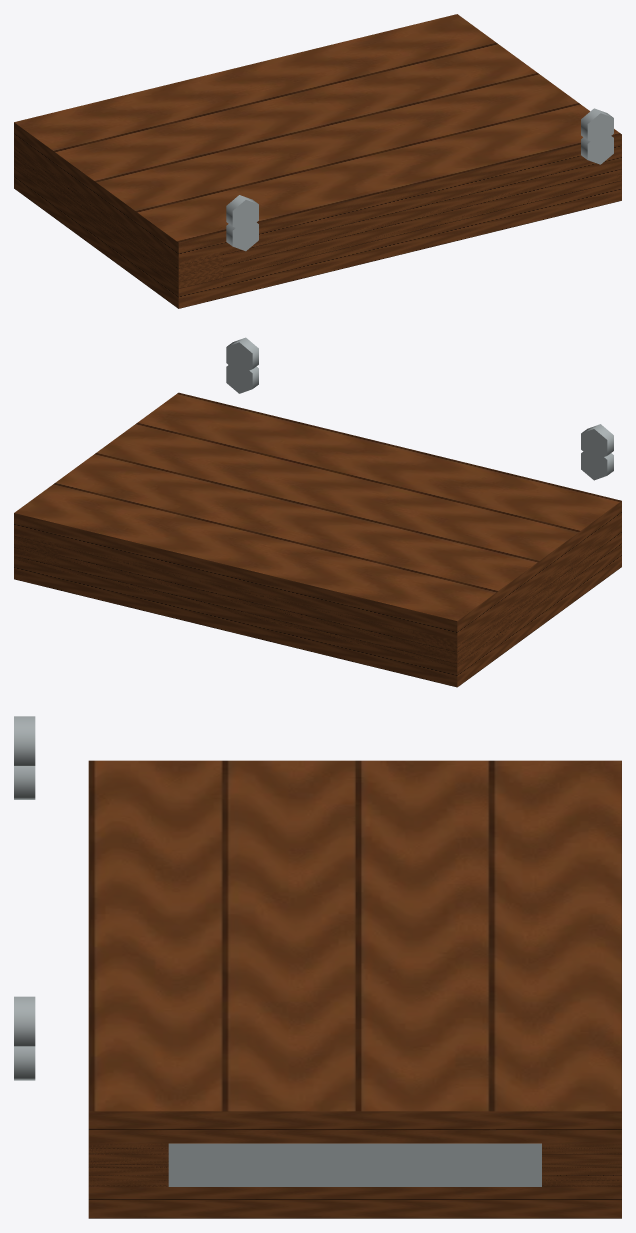
Rendered from suburban-outbreak-interiors-loose-cupboard-shelf-af0fb7c7__20011.glb.
3 renders of one model, top to bottom at view 1: azimuth 30°, elevation 25°; view 2: azimuth 150°, elevation 25°; view 3: azimuth 270°, elevation 25°, orthographic. The views are drawn at different scales.
Visible parts, largest first — view 1: loose-cupboard-shelf; view 2: loose-cupboard-shelf; view 3: loose-cupboard-shelf.
Boxes of the visible parts, bbox=[...] form: loose-cupboard-shelf: bbox=[14, 14, 621, 308]; loose-cupboard-shelf: bbox=[14, 337, 621, 687]; loose-cupboard-shelf: bbox=[14, 716, 621, 1218].
Bounding box in the file's own units: 0.7012 × 0.174 × 0.513.
Materials: 2 (1 with a texture image).
